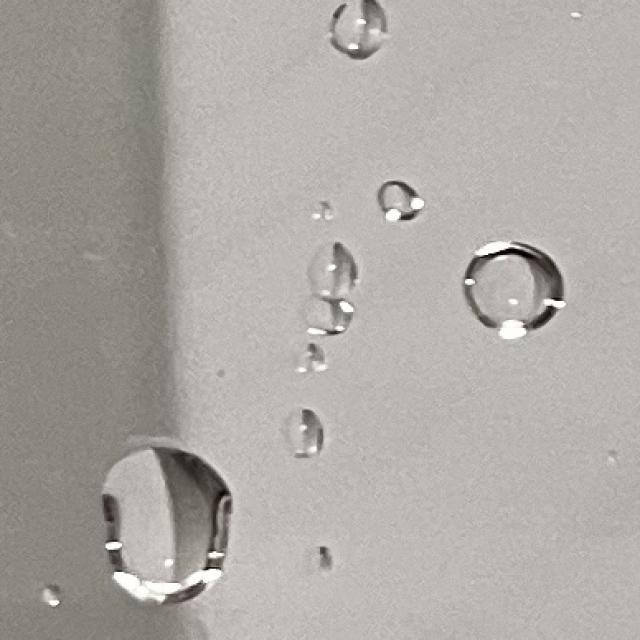raindrop: (86, 439, 238, 609), (462, 226, 572, 346), (326, 0, 401, 76), (266, 410, 336, 476), (297, 236, 364, 304), (282, 286, 349, 342), (374, 173, 440, 226), (279, 339, 336, 379), (34, 578, 85, 616), (291, 531, 343, 567), (306, 198, 341, 230)
